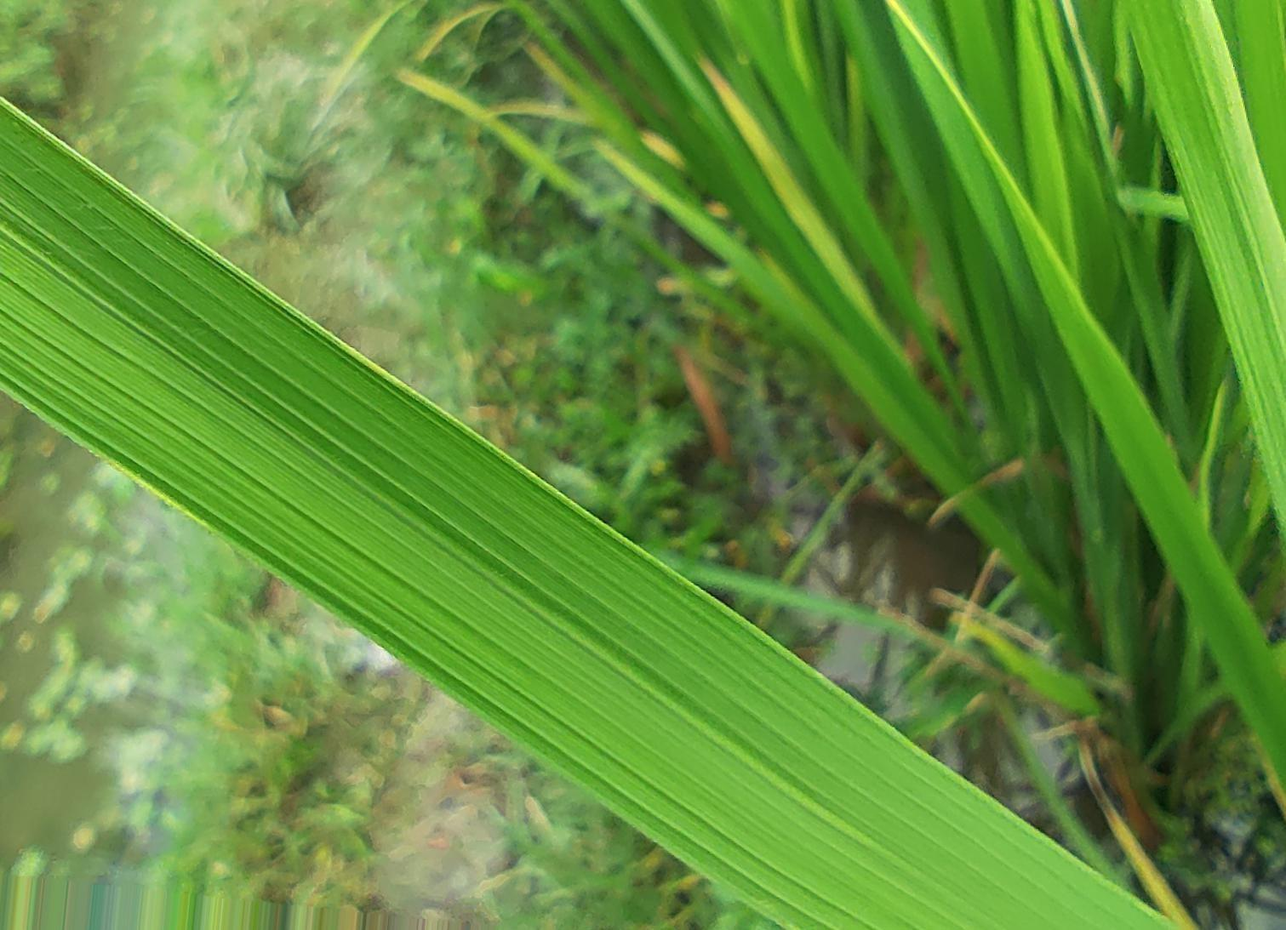Healthy: (0, 102, 1163, 929)
